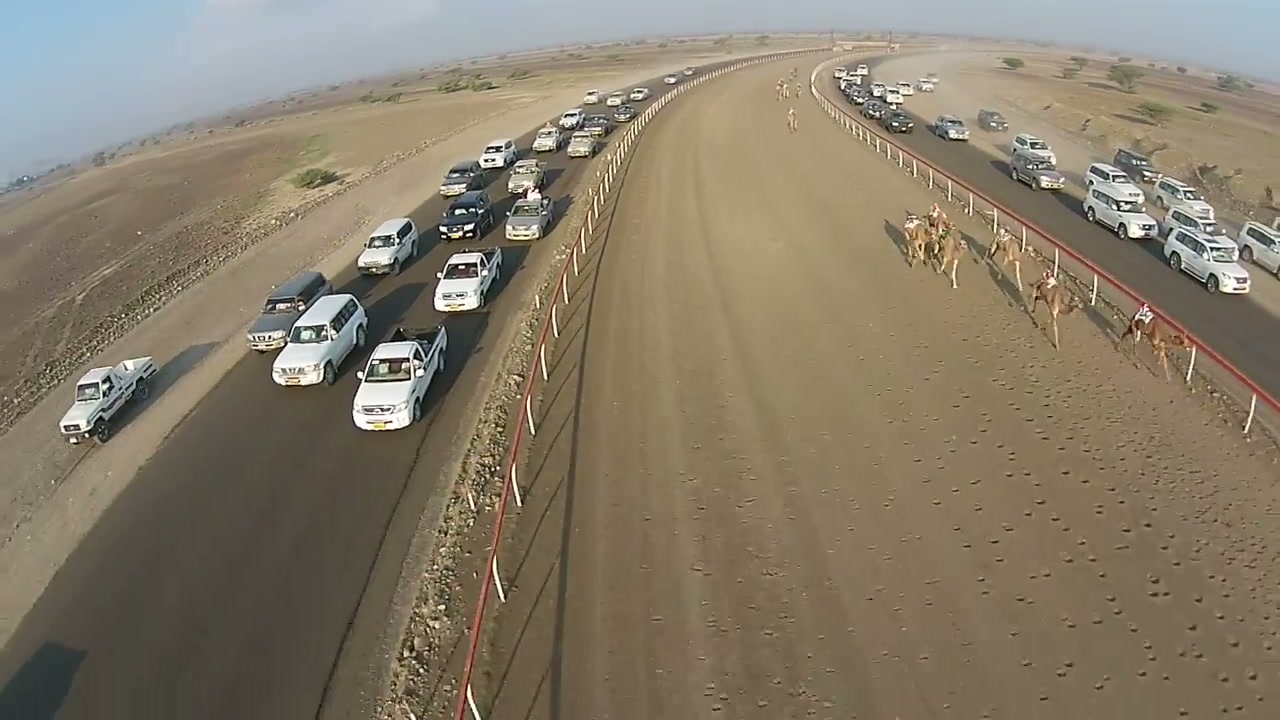animal_foot_print: (899, 266, 1202, 709), (1000, 297, 1273, 706)
